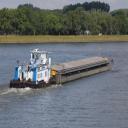tugboat: (10, 49, 60, 91)
